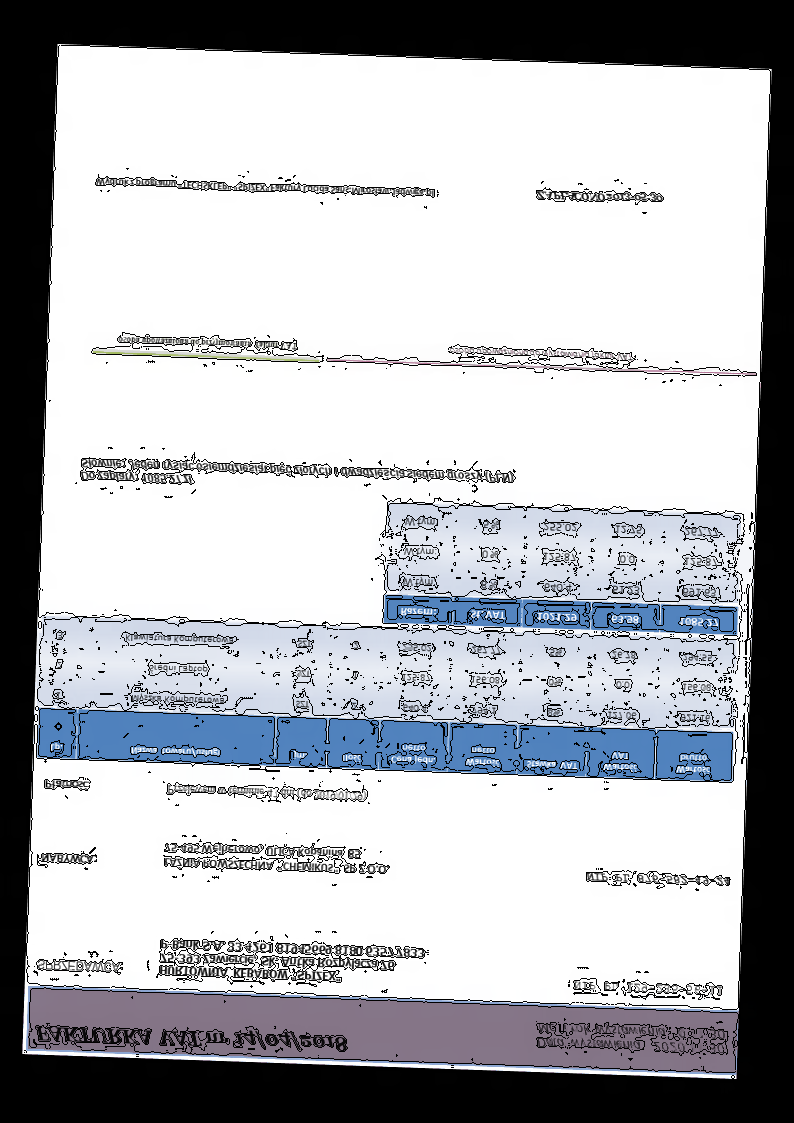Table: (34, 616, 739, 784), (381, 501, 742, 636)
TextBox: (77, 453, 516, 499), (157, 935, 426, 986), (32, 1018, 352, 1057), (92, 174, 437, 201), (160, 840, 392, 877), (533, 1020, 730, 1057), (165, 782, 369, 804), (113, 332, 300, 353), (446, 345, 634, 364), (583, 868, 731, 890), (570, 977, 725, 998), (533, 186, 666, 207), (34, 957, 125, 977), (37, 851, 98, 867), (40, 776, 93, 793)
